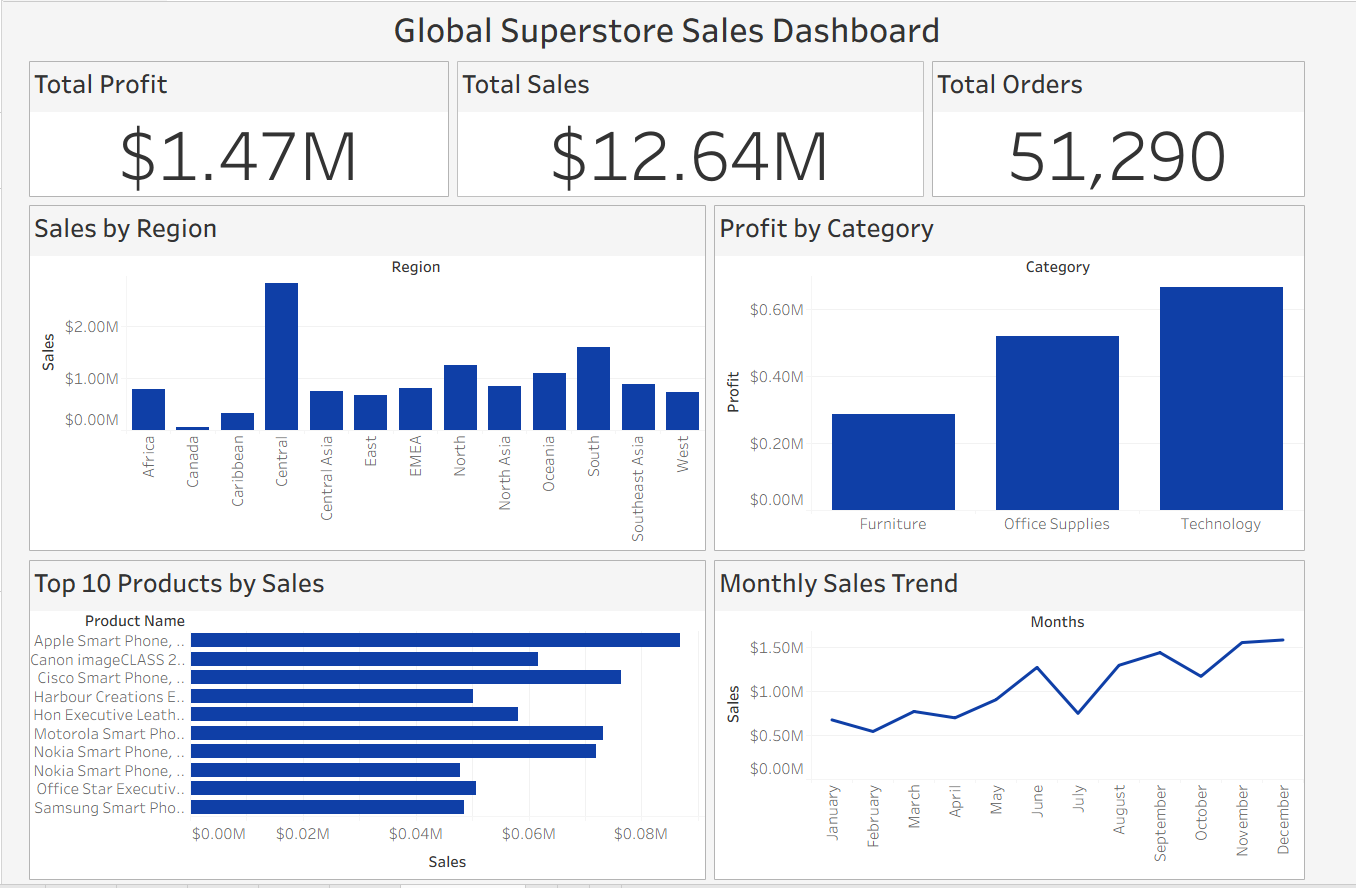

The dashboard page shown, as its layout file describes it:
{"tool":"tableau","page":{"name":"Dashboard 1","canvas":[1300,900],"ordinal":0},"visuals":[{"type":"title","box":[8,8,1284,57]},{"type":"worksheet","title":"Sheet 6","mark":"Text","box":[8,65,428,144.5]},{"type":"worksheet","title":"Sheet 5","mark":"Text","box":[436,65,475.4,144.5]},{"type":"worksheet","title":"Sheet 7","mark":"Text","box":[911.4,65,380.7,144.5]},{"type":"worksheet","title":"Sheet 1","mark":"Automatic","rows":["sales"],"cols":["region"],"box":[8,209.5,685,354.4]},{"type":"worksheet","title":"Sheet 2","mark":"Automatic","rows":["profit"],"cols":["category"],"box":[693,209.5,599,354.4]},{"type":"worksheet","title":"Sheet 3","mark":"Automatic","rows":["product_name"],"cols":["sales"],"box":[8,563.9,685,328.1]},{"type":"worksheet","title":"Sheet 4","mark":"Line","rows":["sales"],"cols":["Months"],"box":[693,563.9,599,328.1]}]}

Visuals, with their boxes on the page's 1300x900 design canvas (x1, y1, x2, y2). These are canvas units, not pixel positions in the 1356x888 screenshot, which may show the page scaled, cropped or inside an application window:
title: locate(8, 8, 1292, 65)
"Sheet 6" worksheet (Text marks): locate(8, 65, 436, 210)
"Sheet 5" worksheet (Text marks): locate(436, 65, 911, 210)
"Sheet 7" worksheet (Text marks): locate(911, 65, 1292, 210)
"Sheet 1" worksheet: locate(8, 210, 693, 564)
"Sheet 2" worksheet: locate(693, 210, 1292, 564)
"Sheet 3" worksheet: locate(8, 564, 693, 892)
"Sheet 4" worksheet (Line marks): locate(693, 564, 1292, 892)
